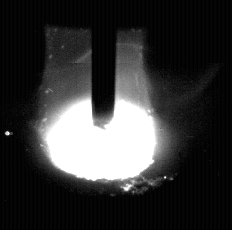arame: (92, 0, 116, 130)
poca: (43, 0, 157, 230)
